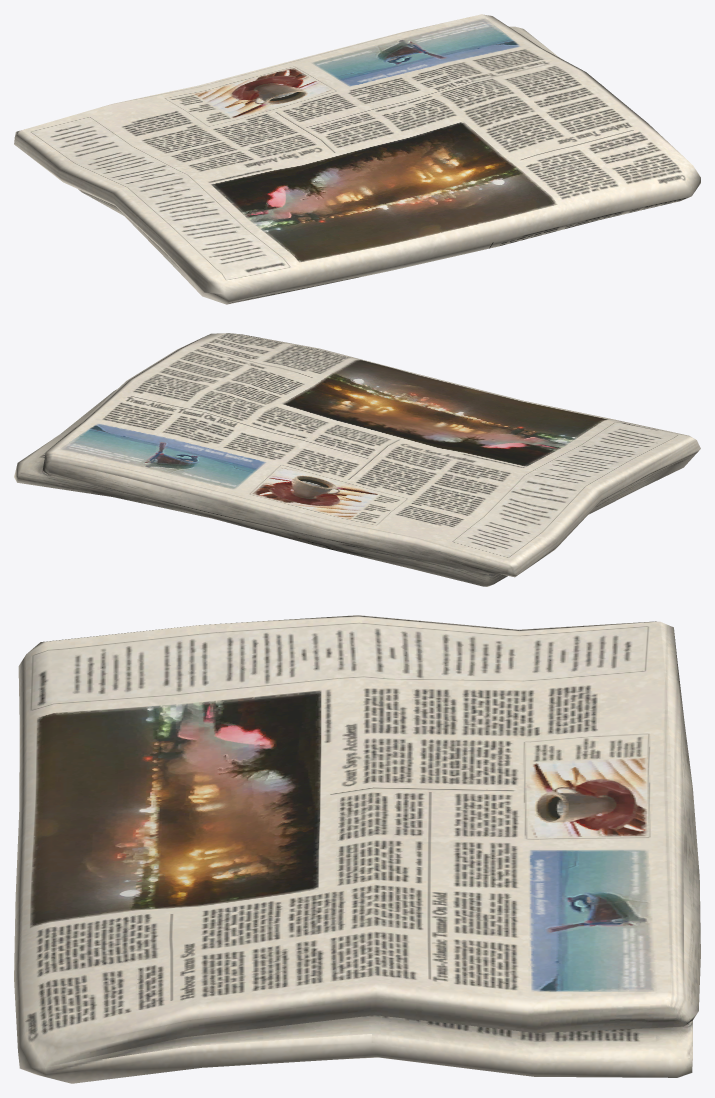
File: newspaper_toronto_daily.dae
3 renders of one model, top to bottom at view 1: azimuth 30°, elevation 25°; view 2: azimuth 150°, elevation 25°; view 3: azimuth 270°, elevation 25°, orthographic. The views are drawn at different scales.
Visible parts, largest first — view 1: Group2; view 2: Group2; view 3: Group2.
Boxes of the visible parts, x1,y1,x2,y2 form: Group2: [14, 14, 700, 304]; Group2: [14, 333, 700, 586]; Group2: [14, 615, 700, 1083].
Size of the model in its own units: 33.08 by 3.66 by 23.42.
Materials: 1 (1 with a texture image).
